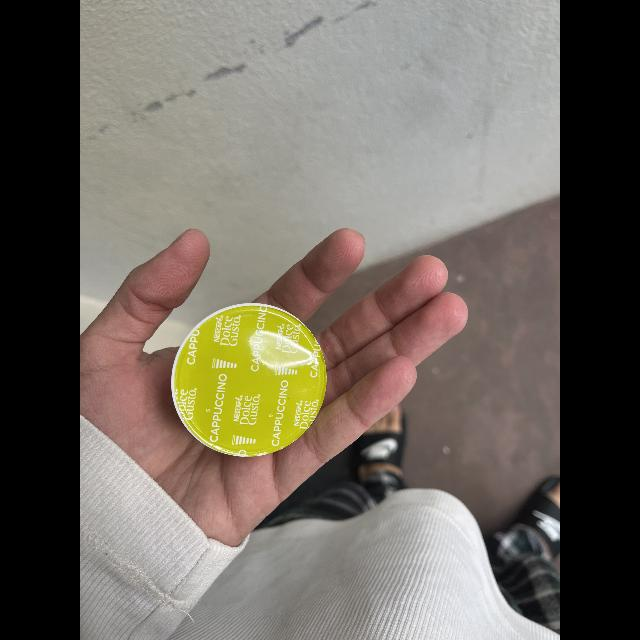intact_capsule: (166, 296, 334, 464)
